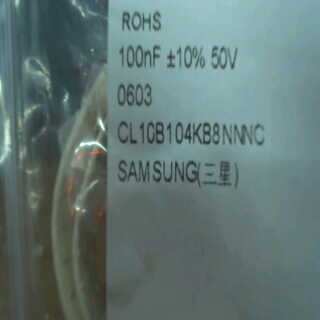100nF: (112, 40, 163, 71)
